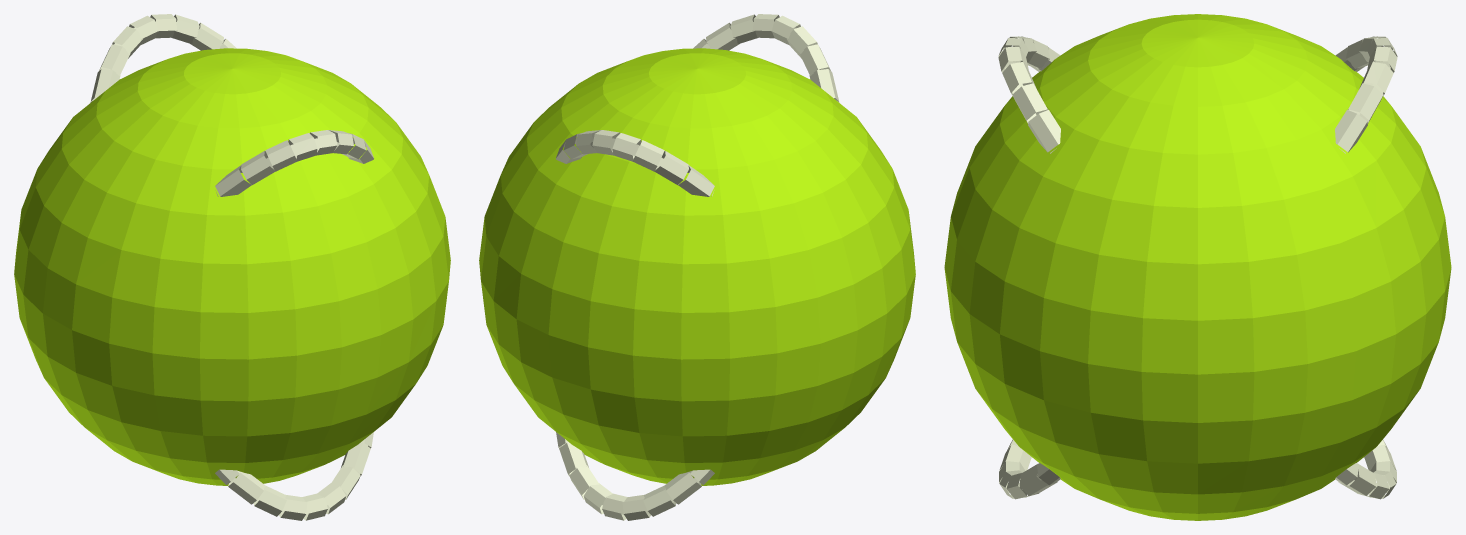
Rendered from tennis_ball.obj.
The picture shows the model from 3 angles, left to right: view 1: azimuth 30°, elevation 25°; view 2: azimuth 150°, elevation 25°; view 3: azimuth 270°, elevation 25°; orthographic projection. The views are drawn at different scales.
Parts seen in each view (by area): view 1: Tennis_ball_felt_body, Curved_white_tennis_ball_seam_B_segment_14, Curved_white_tennis_ball_seam_A_segment_32, Curved_white_tennis_ball_seam_A_segment_31, Curved_white_tennis_ball_seam_B_segment_15, Curved_white_tennis_ball_seam_A_segment_33, Curved_white_tennis_ball_seam_A_segment_34, Curved_white_tennis_ball_seam_B_segment_32, Curved_white_tennis_ball_seam_B_segment_20, Curved_white_tennis_ball_seam_B_segment_02, Curved_white_tennis_ball_seam_B_segment_33, Curved_white_tennis_ball_seam_B_segment_16 (+6 smaller); view 2: Tennis_ball_felt_body, Curved_white_tennis_ball_seam_A_segment_20, Curved_white_tennis_ball_seam_B_segment_02, Curved_white_tennis_ball_seam_B_segment_03, Curved_white_tennis_ball_seam_A_segment_19, Curved_white_tennis_ball_seam_B_segment_01, Curved_white_tennis_ball_seam_B_segment_00, Curved_white_tennis_ball_seam_A_segment_02, Curved_white_tennis_ball_seam_A_segment_14, Curved_white_tennis_ball_seam_A_segment_32, Curved_white_tennis_ball_seam_A_segment_01, Curved_white_tennis_ball_seam_A_segment_18 (+6 smaller); view 3: Tennis_ball_felt_body, Curved_white_tennis_ball_seam_A_segment_03, Curved_white_tennis_ball_seam_B_segment_31, Curved_white_tennis_ball_seam_A_segment_02, Curved_white_tennis_ball_seam_B_segment_32, Curved_white_tennis_ball_seam_A_segment_01, Curved_white_tennis_ball_seam_B_segment_33.
Part boxes in pixels (<box>): Tennis_ball_felt_body: <box>14,48,450,485</box>; Curved_white_tennis_ball_seam_B_segment_14: <box>228,472,265,504</box>; Curved_white_tennis_ball_seam_A_segment_32: <box>241,151,275,184</box>; Curved_white_tennis_ball_seam_A_segment_31: <box>215,165,251,196</box>; Curved_white_tennis_ball_seam_B_segment_15: <box>253,486,286,516</box>; Curved_white_tennis_ball_seam_A_segment_33: <box>265,140,297,171</box>; Curved_white_tennis_ball_seam_A_segment_34: <box>288,133,317,161</box>; Curved_white_tennis_ball_seam_B_segment_32: <box>190,22,223,50</box>; Curved_white_tennis_ball_seam_B_segment_20: <box>341,442,370,475</box>; Curved_white_tennis_ball_seam_B_segment_02: <box>99,44,130,75</box>; Curved_white_tennis_ball_seam_B_segment_33: <box>171,14,199,43</box>; Curved_white_tennis_ball_seam_B_segment_16: <box>279,494,307,520</box>; Tennis_ball_felt_body: <box>479,48,915,485</box>; Curved_white_tennis_ball_seam_A_segment_20: <box>664,472,701,504</box>; Curved_white_tennis_ball_seam_B_segment_02: <box>654,151,688,184</box>; Curved_white_tennis_ball_seam_B_segment_03: <box>678,165,714,196</box>; Curved_white_tennis_ball_seam_A_segment_19: <box>643,486,676,516</box>; Curved_white_tennis_ball_seam_B_segment_01: <box>632,140,664,171</box>; Curved_white_tennis_ball_seam_B_segment_00: <box>612,133,641,161</box>; Curved_white_tennis_ball_seam_A_segment_02: <box>706,22,739,50</box>; Curved_white_tennis_ball_seam_A_segment_14: <box>559,442,588,475</box>; Curved_white_tennis_ball_seam_A_segment_32: <box>799,44,830,75</box>; Curved_white_tennis_ball_seam_A_segment_01: <box>730,14,758,43</box>; Curved_white_tennis_ball_seam_A_segment_18: <box>622,494,650,520</box>; Tennis_ball_felt_body: <box>944,14,1451,520</box>; Curved_white_tennis_ball_seam_A_segment_03: <box>1028,109,1060,152</box>; Curved_white_tennis_ball_seam_B_segment_31: <box>1335,109,1367,152</box>; Curved_white_tennis_ball_seam_A_segment_02: <box>1012,83,1047,123</box>; Curved_white_tennis_ball_seam_B_segment_32: <box>1348,83,1383,123</box>; Curved_white_tennis_ball_seam_A_segment_01: <box>1002,62,1036,95</box>; Curved_white_tennis_ball_seam_B_segment_33: <box>1359,62,1393,95</box>.
Size of the model in its own units: 0.22 by 0.22 by 0.22.
